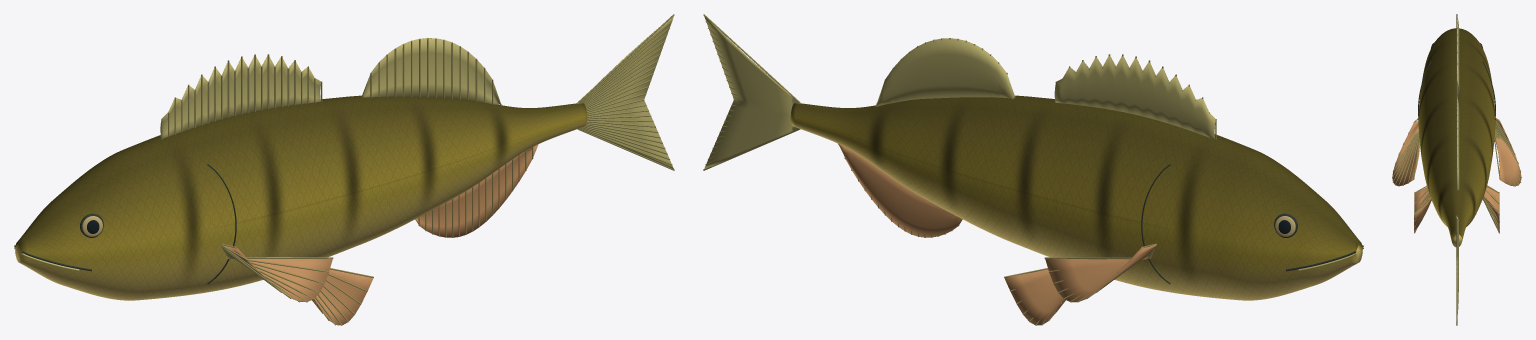
File: yellow-perch.glb
3 views of the same model, side by side, from view 1: azimuth 30°, elevation 25°; view 2: azimuth 150°, elevation 25°; view 3: azimuth 270°, elevation 25° (orthographic). The views are drawn at different scales.
Parts seen in each view (by area): view 1: yellow-perch specimen.001; view 2: yellow-perch specimen.001; view 3: yellow-perch specimen.001.
Part boxes in pixels (x1=…): yellow-perch specimen.001: x1=14, y1=14, x2=674, y2=325; yellow-perch specimen.001: x1=703, y1=14, x2=1363, y2=325; yellow-perch specimen.001: x1=1392, y1=14, x2=1521, y2=325.
Bounding box in the file's own units: 2.38 × 0.9169 × 0.5788.
8 materials, 1 textured.
